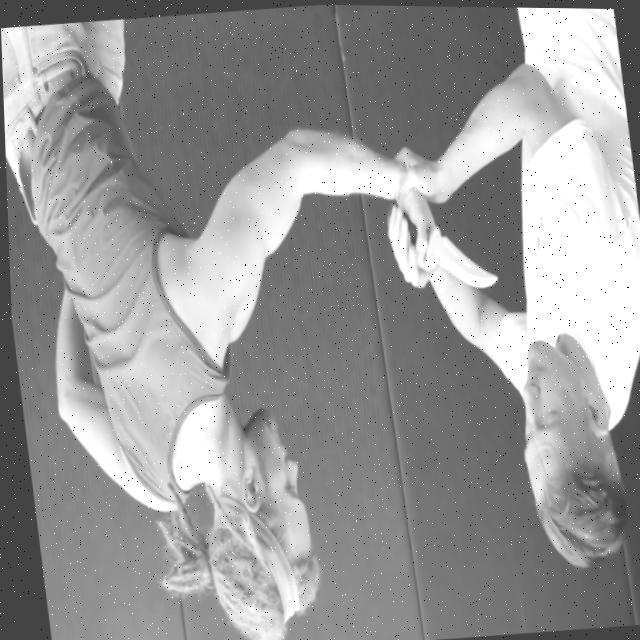knife: (404, 208, 500, 301)
